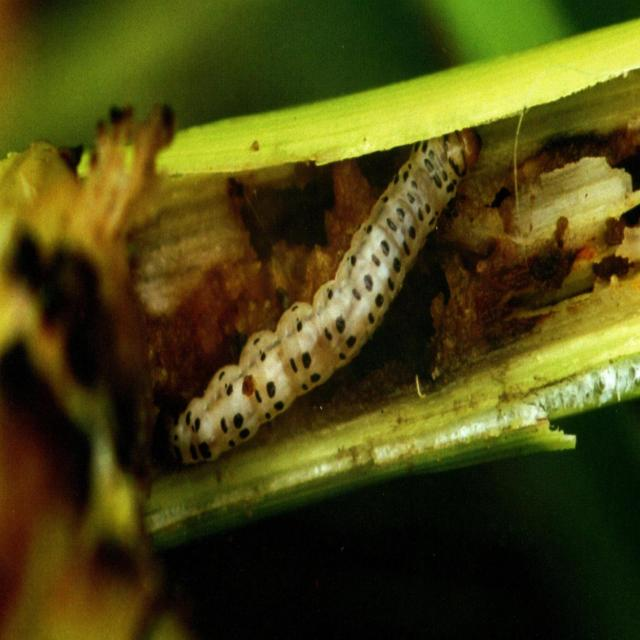peach borer: (163, 138, 507, 472)
